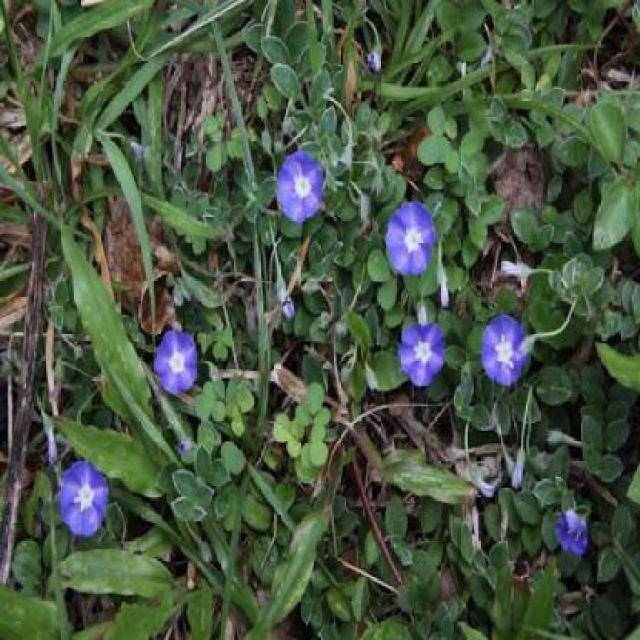flower: (390, 305, 444, 400), (148, 317, 201, 401), (384, 193, 436, 278), (477, 305, 529, 390), (58, 459, 111, 541), (276, 148, 327, 222), (546, 499, 592, 563)
